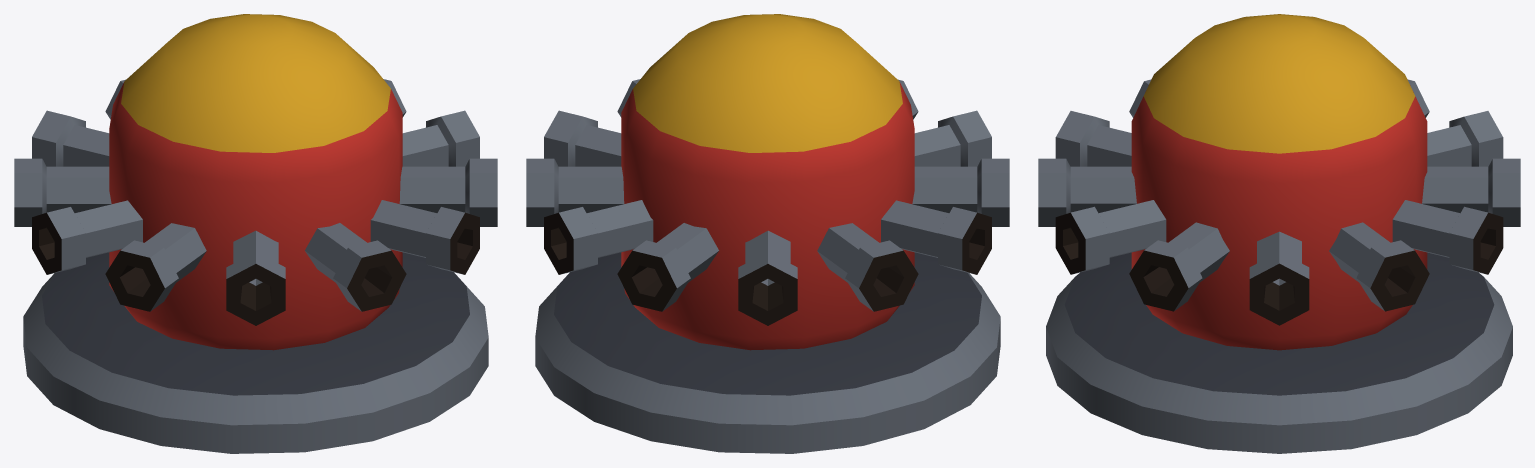
The picture shows the model from 3 angles, left to right: view 1: azimuth 30°, elevation 25°; view 2: azimuth 150°, elevation 25°; view 3: azimuth 270°, elevation 25°; orthographic projection.
Visible parts, largest first — view 1: tachinha_1_torreta, tachinha_0_base; view 2: tachinha_1_torreta, tachinha_0_base; view 3: tachinha_1_torreta, tachinha_0_base.
Boxes of the visible parts, x1,y1,x2,y2 form: tachinha_1_torreta: (14, 14, 497, 350); tachinha_0_base: (23, 252, 488, 453); tachinha_1_torreta: (526, 14, 1009, 350); tachinha_0_base: (535, 252, 1000, 453); tachinha_1_torreta: (1038, 14, 1520, 350); tachinha_0_base: (1046, 252, 1512, 453).
Bounding box in the file's own units: 0.702 × 0.53 × 0.702.
